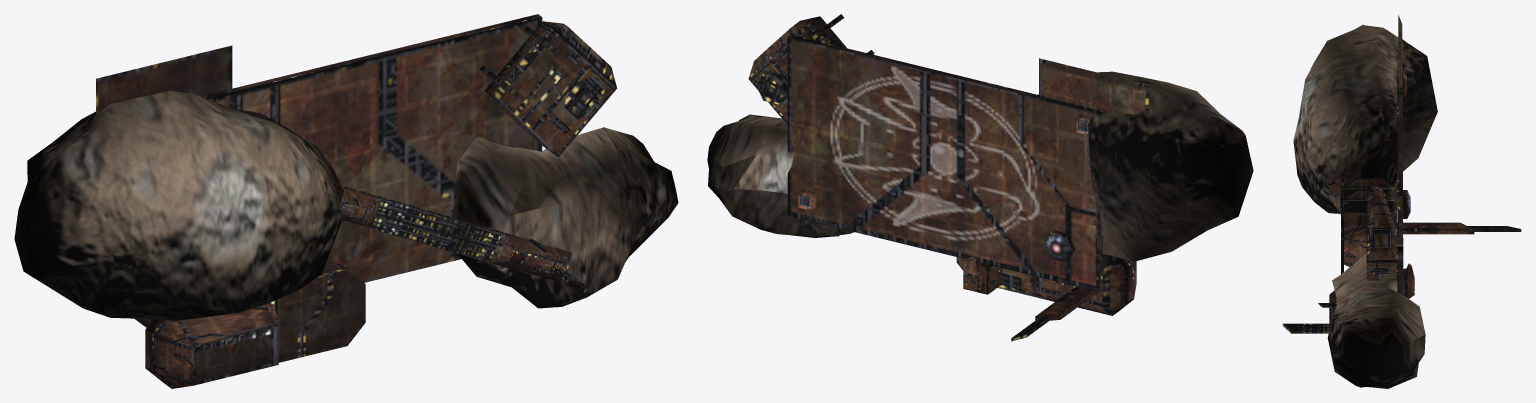
3 renders of one model, left to right at view 1: azimuth 30°, elevation 25°; view 2: azimuth 150°, elevation 25°; view 3: azimuth 270°, elevation 25°, orthographic. The views are drawn at different scales.
Visible parts, largest first — view 1: frm-sphere6, frm-cube1, frm-sphere6_1, frm-cube7, frm-cube3, frm-cube4, frm-cube11, frm-cube15, frm-cube18; view 2: frm-cube1, frm-sphere6, frm-sphere6_1, frm-cube4, frm-cube7, frm-cube3, frm-cube14, frm-cube5, frm-cyl1_1, frm-cyl1; view 3: frm-sphere6, frm-sphere6_1, frm-cube3, frm-cube7, frm-cube1, frm-cube5, frm-cube19, frm-cube22, frm-cube18, frm-cube14, frm-cube4, frm-cube11 (+2 smaller).
Part boxes in pixels (<box>): frm-sphere6: <box>14,90,343,320</box>; frm-cube1: <box>150,14,542,321</box>; frm-sphere6_1: <box>453,127,678,308</box>; frm-cube7: <box>145,263,365,388</box>; frm-cube3: <box>484,21,617,157</box>; frm-cube4: <box>96,45,232,113</box>; frm-cube11: <box>341,186,541,275</box>; frm-cube15: <box>490,233,571,281</box>; frm-cube18: <box>340,189,381,227</box>; frm-cube1: <box>787,34,1102,291</box>; frm-sphere6: <box>1038,71,1253,261</box>; frm-sphere6_1: <box>707,114,853,237</box>; frm-cube4: <box>1039,58,1148,113</box>; frm-cube7: <box>956,254,1136,315</box>; frm-cube3: <box>748,16,846,124</box>; frm-cube14: <box>963,256,1001,294</box>; frm-cube5: <box>1035,286,1096,320</box>; frm-cyl1_1: <box>756,71,787,104</box>; frm-cyl1: <box>1044,230,1075,262</box>; frm-sphere6: <box>1293,25,1437,215</box>; frm-sphere6_1: <box>1327,253,1425,388</box>; frm-cube3: <box>1366,185,1397,280</box>; frm-cube7: <box>1344,209,1396,266</box>; frm-cube1: <box>1397,66,1402,295</box>; frm-cube5: <box>1397,222,1474,234</box>; frm-cube19: <box>1282,323,1329,333</box>; frm-cube22: <box>1342,178,1394,189</box>; frm-cube18: <box>1329,173,1340,213</box>; frm-cube14: <box>1403,263,1414,298</box>; frm-cube4: <box>1398,15,1402,91</box>; frm-cube11: <box>1341,174,1343,273</box>.
Size of the model in its own units: 112 by 60.3 by 51.36.
